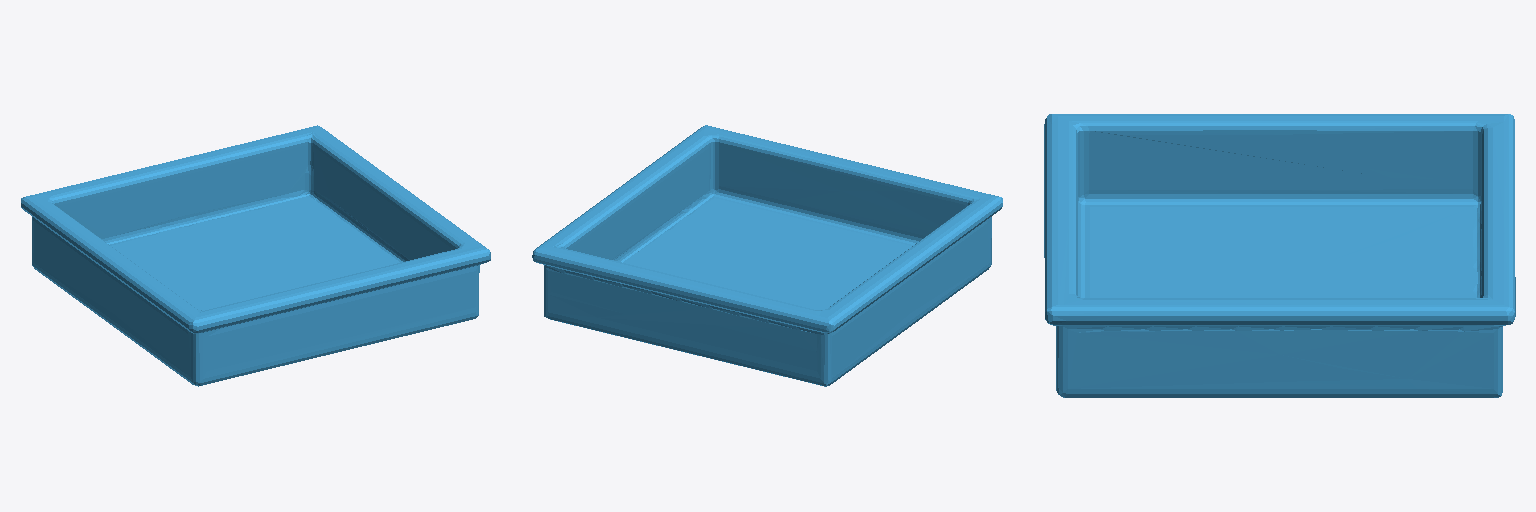
The robot description file, URDF, robot "Pan_e8cd2c495f1a33cdd068168ae86ef29a_M":
<?xml version="1.0"?>
<robot name="Pan_e8cd2c495f1a33cdd068168ae86ef29a_M">
  <link name="base"/>
  <link name="link_0">
  <visual>
    <origin xyz="0.0 0.0 0.0"/>
    <geometry>
      <mesh filename="Pan_e8cd2c495f1a33cdd068168ae86ef29a_M.obj" scale="1.0 1.0 1.0"/>
    </geometry>
  </visual>
  <collision>
    <origin xyz="0.0 0.0 0.0"/>
    <geometry>
      <mesh filename="collision.obj" scale="1.0 1.0 1.0"/>
    </geometry>
  </collision>
  </link>
  <joint name="joint_0" type="fixed">
    <origin rpy="0 0 0" xyz="0 0 0"/>
    <child link="link_0"/>
    <parent link="base"/>
  </joint>
</robot>

--- What the picture shows (computed from the rendered views, not written in the file) ---
The picture shows the robot from 3 angles, left to right: view 1: azimuth 30°, elevation 25°; view 2: azimuth 150°, elevation 25°; view 3: azimuth 270°, elevation 25°; orthographic projection.
Model Pan_e8cd2c495f1a33cdd068168ae86ef29a_M with 2 links and 1 joints (1 fixed), rooted at base, posed every joint at zero.
Links seen in each view (by area): view 1: link_0; view 2: link_0; view 3: link_0.
Link boxes in pixels (x1,y1,x2,y2): link_0: [21, 125, 490, 386]; link_0: [532, 125, 1002, 386]; link_0: [1044, 114, 1515, 397].
Bounding box of the posed robot: 0.3082 × 0.308 × 0.0698 m (x, y, z).
Meshes: 1 distinct files referenced, 1 mesh visuals loaded (1 OBJ).